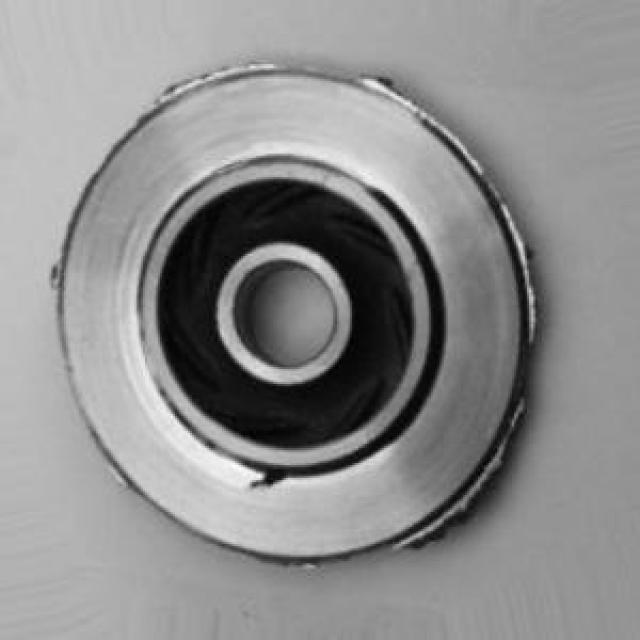Defect: (237, 457, 292, 497)
